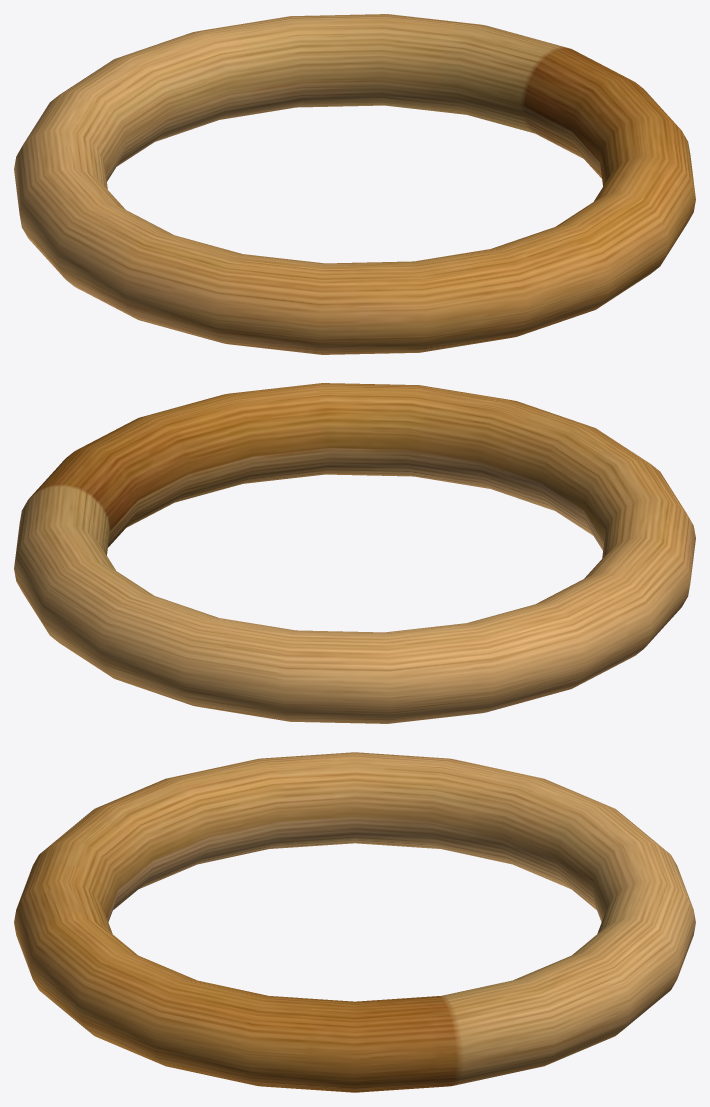
Rendered from torous.obj.
3 views of the same model, one above another, from view 1: azimuth 30°, elevation 25°; view 2: azimuth 150°, elevation 25°; view 3: azimuth 270°, elevation 25° (orthographic).
Parts seen in each view (by area): view 1: pTorus1; view 2: pTorus1; view 3: pTorus1.
Part boxes in pixels (x1,y1,x2,y2): pTorus1: (14, 14, 695, 354); pTorus1: (14, 383, 695, 723); pTorus1: (14, 752, 695, 1092).
Size of the model in its own units: 7.43 by 1 by 7.43.
Materials: 1 (1 with a texture image).
